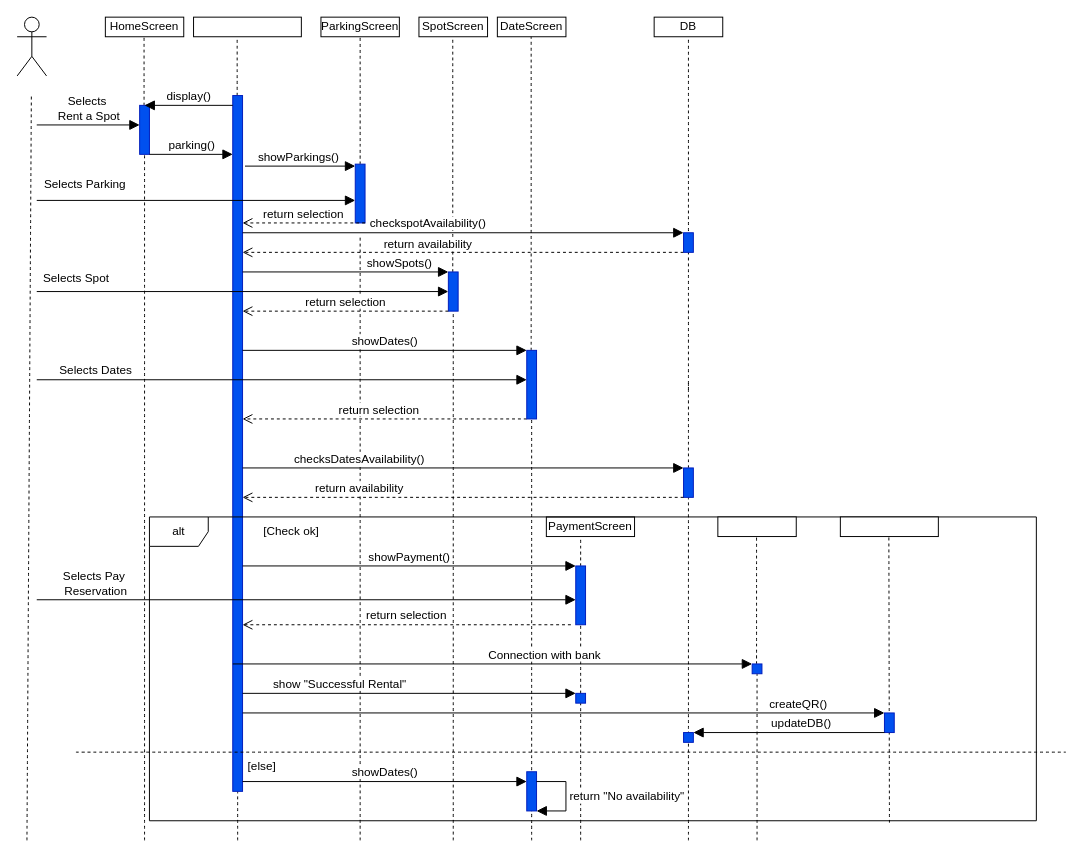
Some shapes in this 1084 by 858 pixel diagram are drawn without their labels. Each missing label, with the centre of its shape:
"Actor" belongs at (31,46).
"Bank" belongs at (756,526).
"RentAspotClass" belongs at (247,26).
"ReserveInfoclass" belongs at (888,526).
